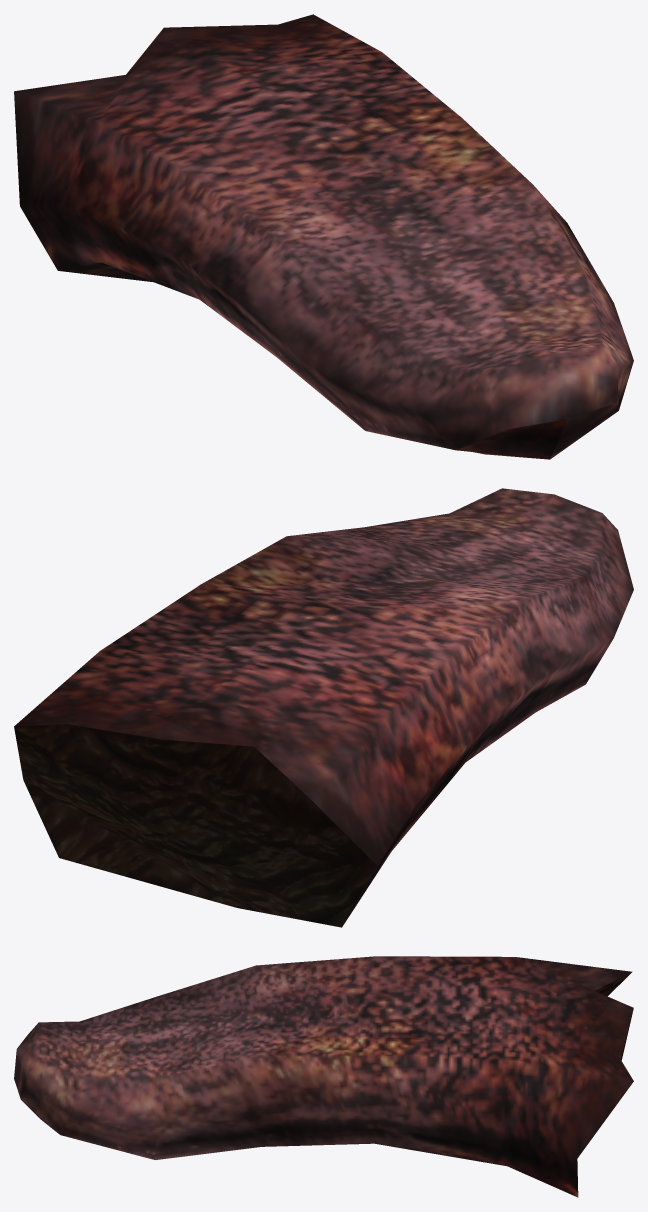
Rendered from Giblet_Tongue.DAE.
The picture shows the model from 3 angles, top to bottom: view 1: azimuth 30°, elevation 25°; view 2: azimuth 150°, elevation 25°; view 3: azimuth 270°, elevation 25°; orthographic projection. The views are drawn at different scales.
Visible parts, largest first — view 1: Giblet_Tongue; view 2: Giblet_Tongue; view 3: Giblet_Tongue.
Boxes of the visible parts, x1,y1,x2,y2 form: Giblet_Tongue: (14,14,633,459); Giblet_Tongue: (14,488,633,927); Giblet_Tongue: (14,956,633,1197).
Size of the model in its own units: 3.92 by 7.73 by 2.33.
